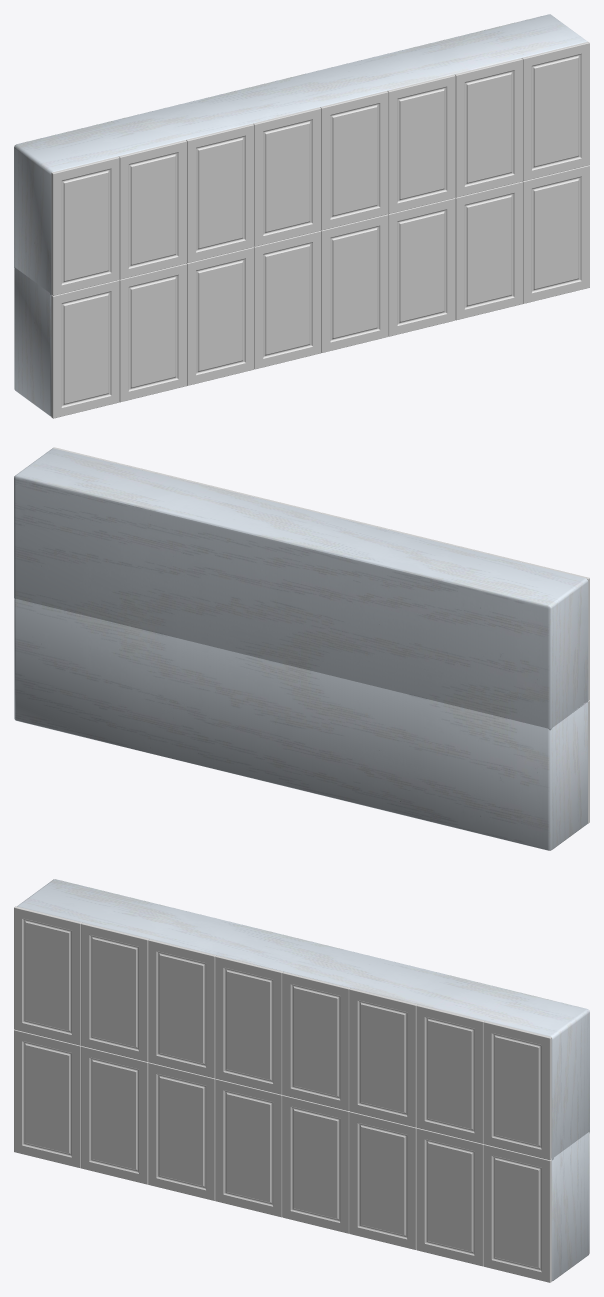
File: 中厅柜子.fbx
The picture shows the model from 3 angles, top to bottom: view 1: azimuth 30°, elevation 25°; view 2: azimuth 150°, elevation 25°; view 3: azimuth 330°, elevation 25°; orthographic projection.
Visible parts, largest first — view 1: Tall Storage Unit.002, 平面.008, 平面.028, 平面.009, 平面.013, 平面.015, 平面.010, 平面.014, 平面.012, 平面.007, 平面.003, 平面.006 (+6 smaller); view 2: Tall Storage Unit.002, Tall Storage Unit.001; view 3: Tall Storage Unit.002, 平面.011, 平面.005, 平面.015, 平面.010, 平面.012, 平面.014, 平面.013, 平面.009, 平面.004, 平面.001, 平面.002 (+6 smaller).
Part boxes in pixels (x1,y1,x2,y2): Tall Storage Unit.002: [14, 14, 587, 295]; 平面.008: [51, 156, 119, 295]; 平面.028: [51, 280, 119, 418]; 平面.009: [387, 74, 455, 213]; 平面.013: [253, 107, 321, 246]; 平面.015: [118, 140, 186, 279]; 平面.010: [454, 58, 522, 197]; 平面.014: [186, 123, 254, 262]; 平面.012: [320, 91, 388, 230]; 平面.007: [388, 198, 455, 336]; 平面.003: [254, 231, 321, 369]; 平面.006: [455, 181, 522, 320]; Tall Storage Unit.002: [14, 448, 588, 730]; Tall Storage Unit.001: [14, 599, 587, 850]; Tall Storage Unit.002: [17, 879, 589, 1160]; 平面.011: [483, 1021, 551, 1160]; 平面.005: [483, 1144, 551, 1282]; 平面.015: [81, 922, 148, 1061]; 平面.010: [416, 1004, 484, 1143]; 平面.012: [282, 972, 350, 1110]; 平面.014: [148, 939, 216, 1078]; 平面.013: [215, 955, 282, 1094]; 平面.009: [349, 988, 417, 1127]; 平面.004: [282, 1095, 349, 1233]; 平面.001: [81, 1046, 148, 1184]; 平面.002: [148, 1062, 215, 1200].
Bounding box in the file's own units: 322 × 141 × 41.27.
18 materials, 2 textured.
